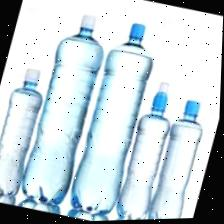plastic: (62, 13, 169, 222), (18, 2, 118, 212), (111, 75, 184, 221), (145, 82, 218, 220), (0, 54, 54, 206)
